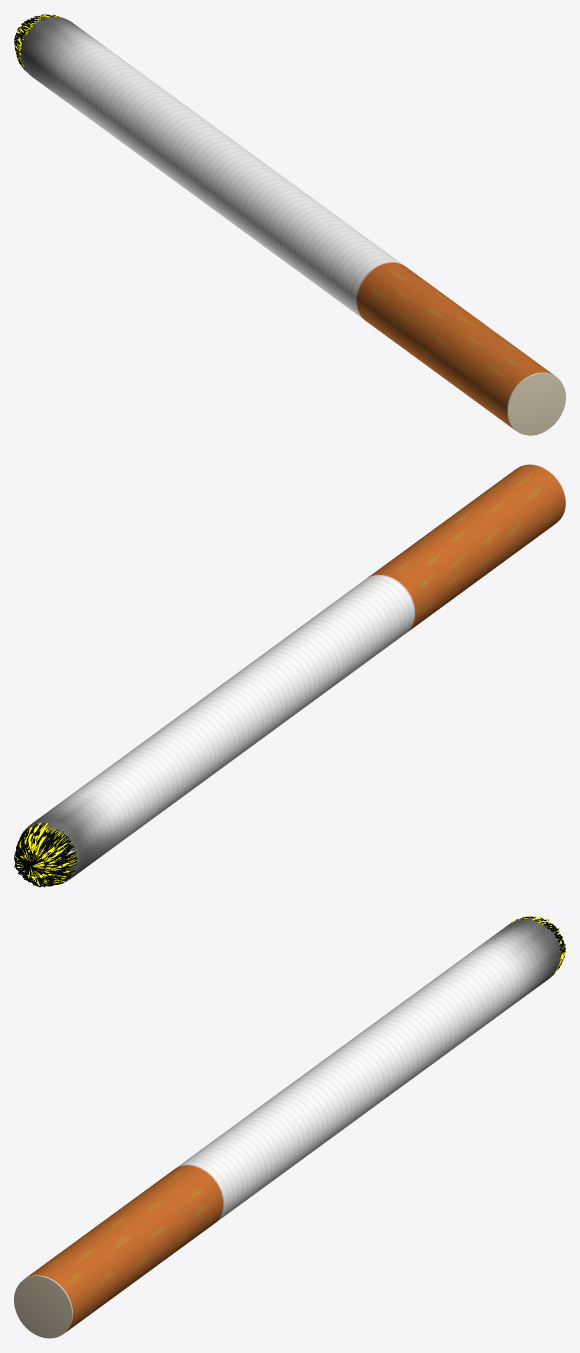
The model's file is CIG.fbx.
3 views of the same model, one above another, from view 1: azimuth 30°, elevation 25°; view 2: azimuth 150°, elevation 25°; view 3: azimuth 330°, elevation 25° (orthographic).
Visible parts, largest first — view 1: Cylinder; view 2: Cylinder; view 3: Cylinder.
Part boxes in pixels (box(x1,y1,x2,y2)): Cylinder: box(14, 14, 565, 435); Cylinder: box(14, 464, 565, 887); Cylinder: box(14, 916, 565, 1338).
Size of the model in its own units: 76.07 by 76.25 by 1140.
